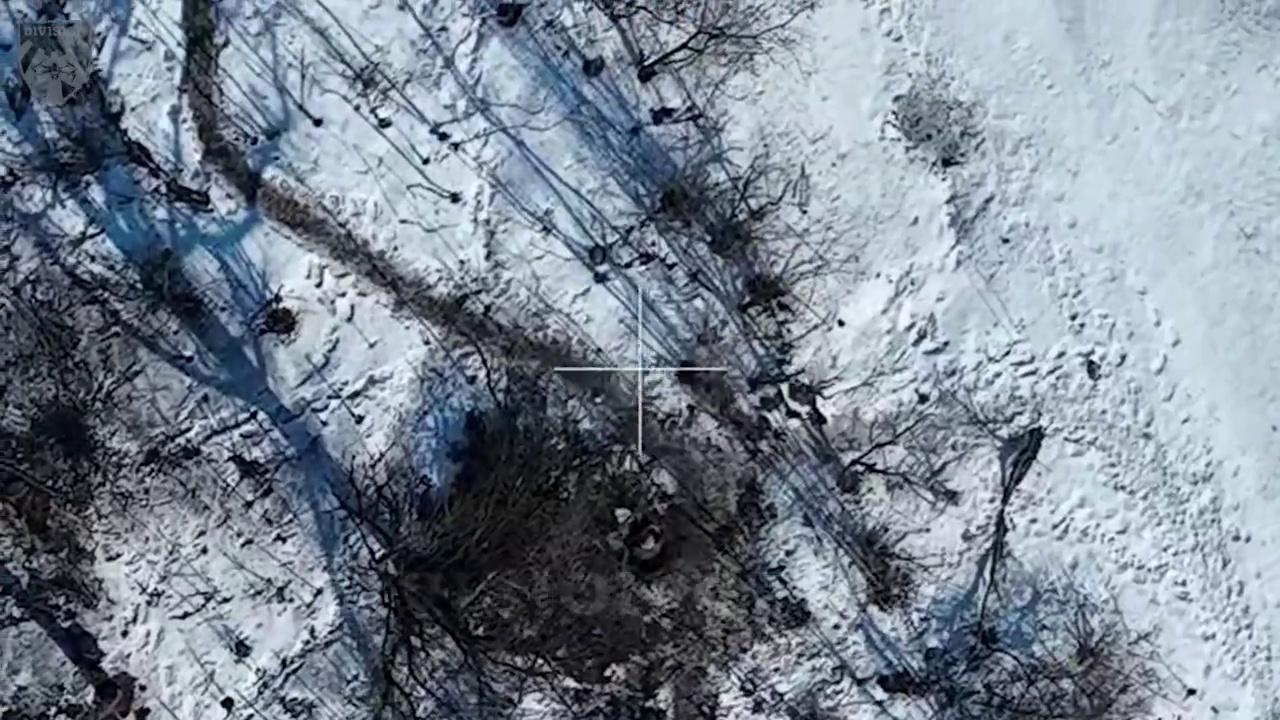person: (627, 520, 669, 568)
